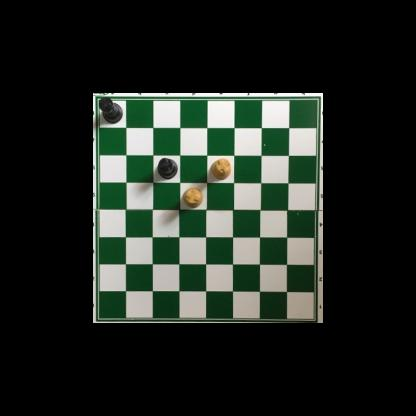black-rook: (97, 97, 124, 125), (157, 157, 179, 179)
white-rook: (210, 158, 231, 181), (181, 187, 202, 209)
